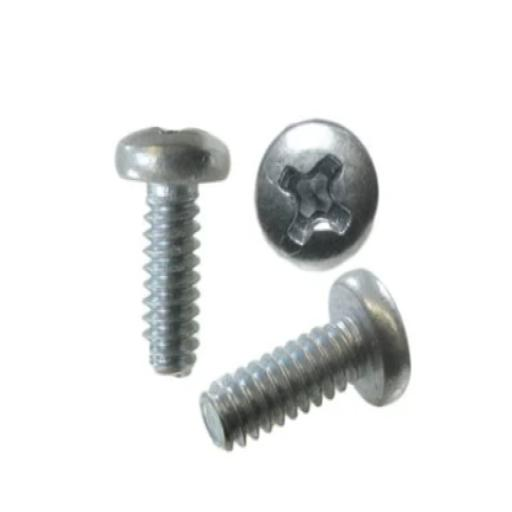Phillips: (252, 113, 378, 275)
